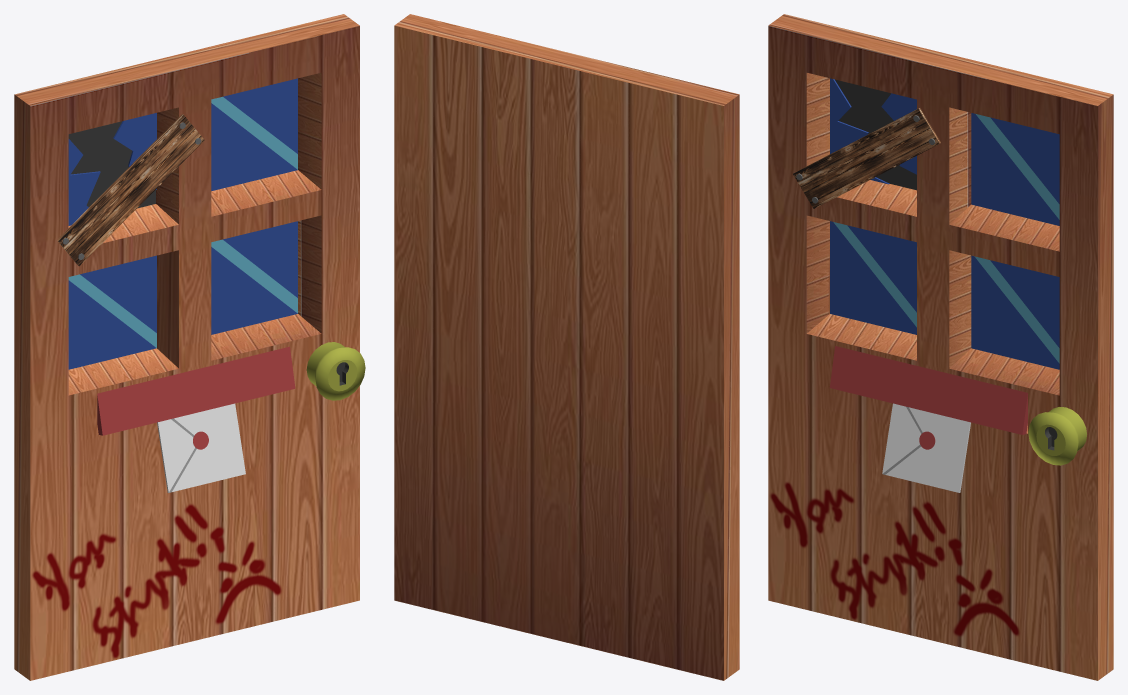
Rendered from LJ-door.fbx.
The picture shows the model from 3 angles, left to right: view 1: azimuth 30°, elevation 25°; view 2: azimuth 150°, elevation 25°; view 3: azimuth 330°, elevation 25°; orthographic projection.
Visible parts, largest first — view 1: Door3; view 2: Door3; view 3: Door3.
Boxes of the visible parts, left/top/right/bottom form: Door3: left=14, top=14, right=365, bottom=680; Door3: left=394, top=14, right=739, bottom=680; Door3: left=768, top=14, right=1113, bottom=680.
Size of the model in its own units: 6 by 10 by 0.9667.
